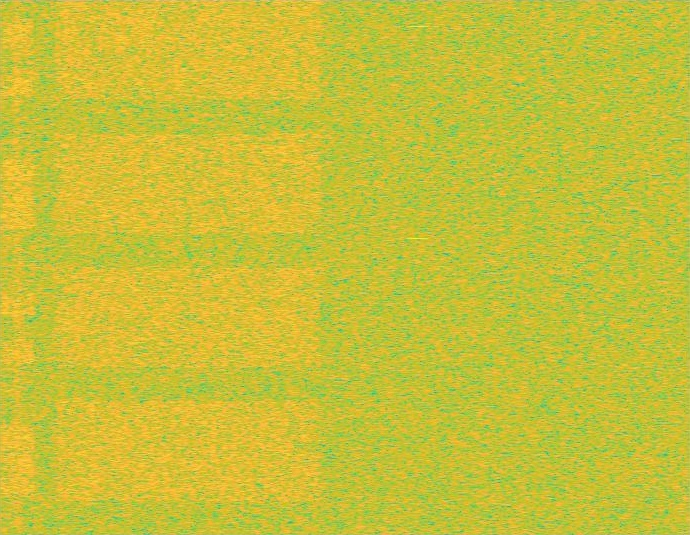5G: (50, 0, 326, 534)
DSSS: (14, 0, 22, 534)
LTE: (0, 0, 35, 534)
Radar: (411, 0, 425, 534)
